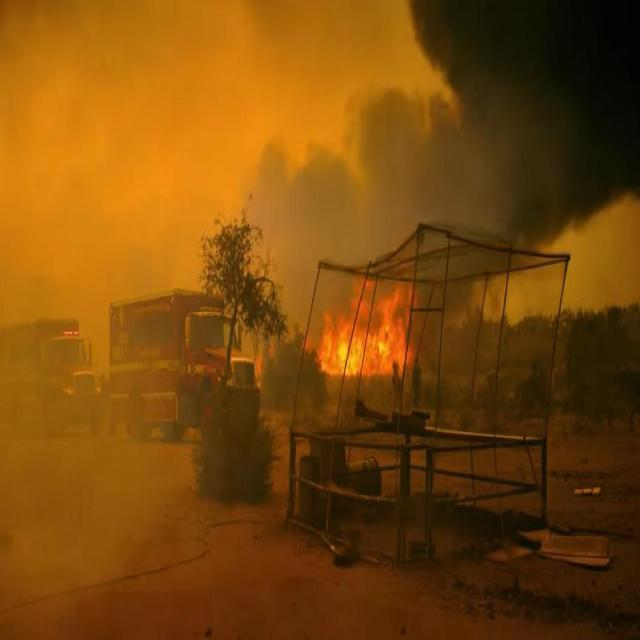fire: (307, 265, 420, 378)
